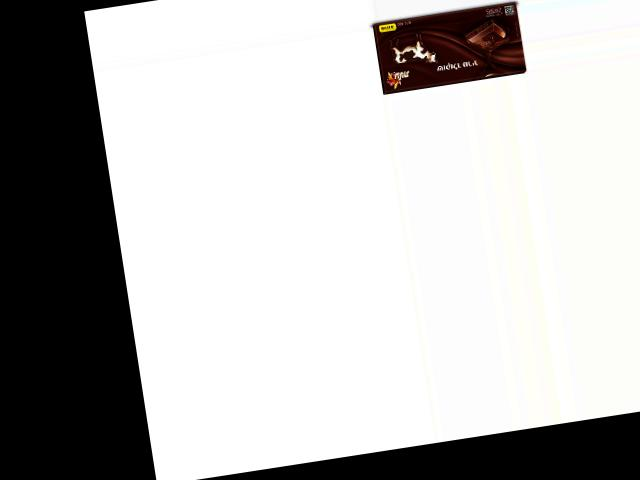chocolate: (368, 1, 525, 96)
